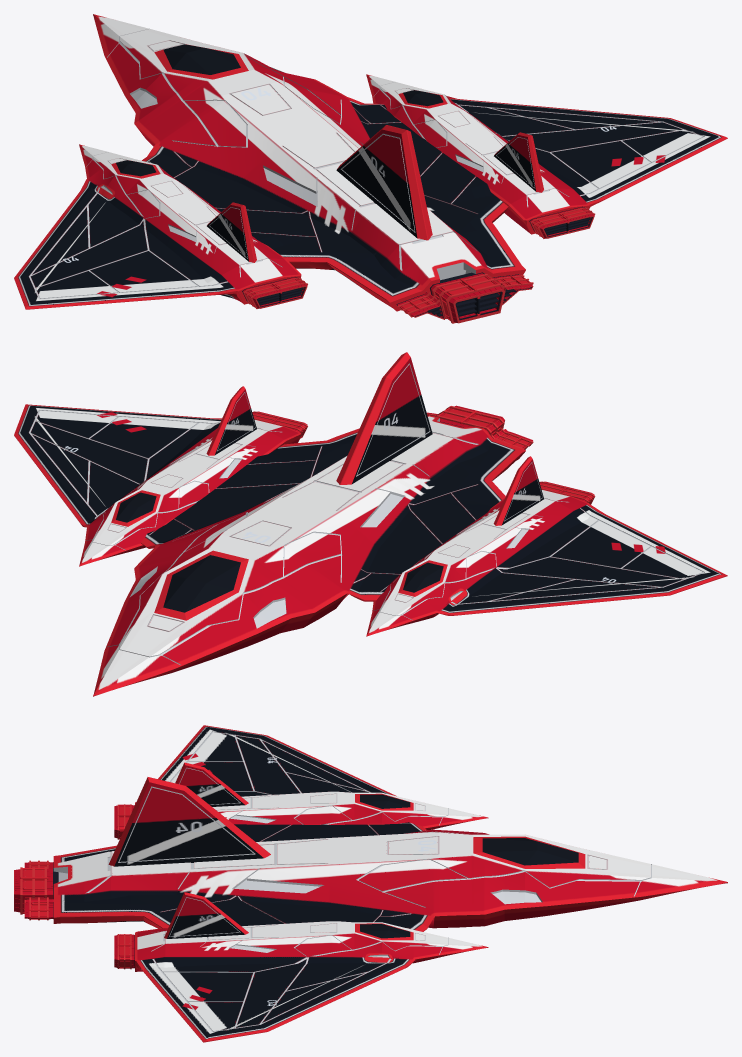
File: racing-red.glb
The picture shows the model from 3 angles, top to bottom: view 1: azimuth 30°, elevation 25°; view 2: azimuth 150°, elevation 25°; view 3: azimuth 270°, elevation 25°; orthographic projection. The views are drawn at different scales.
Parts seen in each view (by area): view 1: CENTER_AF04_BODY_CENTER, SIDE_L_AF04_BODY_CENTER, SIDE_R_AF04_BODY_CENTER, TAIL41_CENTER, CENTER_AF04_CANOPY_0, TAIL41_SIDE_R, TAIL41_SIDE_L, CENTER_AF04_CENTER_CANOPY_FRAME_USER; view 2: CENTER_AF04_BODY_CENTER, SIDE_L_AF04_BODY_CENTER, SIDE_R_AF04_BODY_CENTER, TAIL41_CENTER, CENTER_AF04_CANOPY_0, TAIL41_SIDE_L, TAIL41_SIDE_R, CENTER_AF04_CENTER_CANOPY_FRAME_USER, SIDE_L_AF04_CANOPY_0, SIDE_R_AF04_CANOPY_0; view 3: CENTER_AF04_BODY_CENTER, SIDE_R_AF04_BODY_CENTER, SIDE_L_AF04_BODY_CENTER, TAIL41_CENTER, TAIL41_SIDE_R, CENTER_AF04_CANOPY_0, TAIL41_SIDE_L, CENTER_AF04_CENTER_CANOPY_FRAME_USER, SIDE_L_AF04_CANOPY_0, SIDE_R_AF04_CANOPY_0.
Part boxes in pixels (x1,y1,x2,y2): CENTER_AF04_BODY_CENTER: (93,14,525,311); SIDE_L_AF04_BODY_CENTER: (14,144,301,309); SIDE_R_AF04_BODY_CENTER: (366,74,727,234); TAIL41_CENTER: (336,125,432,240); CENTER_AF04_CANOPY_0: (163,44,240,74); TAIL41_SIDE_R: (494,132,543,192); TAIL41_SIDE_L: (207,202,256,262); CENTER_AF04_CENTER_CANOPY_FRAME_USER: (154,44,248,79); CENTER_AF04_BODY_CENTER: (93,415,525,696); SIDE_L_AF04_BODY_CENTER: (366,489,727,636); SIDE_R_AF04_BODY_CENTER: (14,404,301,566); TAIL41_CENTER: (336,352,432,484); CENTER_AF04_CANOPY_0: (163,555,240,612); TAIL41_SIDE_L: (493,456,543,525); TAIL41_SIDE_R: (206,386,256,455); CENTER_AF04_CENTER_CANOPY_FRAME_USER: (154,550,248,620); SIDE_L_AF04_CANOPY_0: (403,562,443,592); SIDE_R_AF04_CANOPY_0: (116,492,156,522); CENTER_AF04_BODY_CENTER: (53,822,727,931); SIDE_R_AF04_BODY_CENTER: (135,921,488,1042); SIDE_L_AF04_BODY_CENTER: (135,725,488,829); TAIL41_CENTER: (108,777,270,866); TAIL41_SIDE_R: (164,892,248,938); CENTER_AF04_CANOPY_0: (482,838,578,865); TAIL41_SIDE_L: (175,762,248,806); CENTER_AF04_CENTER_CANOPY_FRAME_USER: (473,836,585,868); SIDE_L_AF04_CANOPY_0: (360,794,410,808); SIDE_R_AF04_CANOPY_0: (360,924,410,938).
Bounding box in the file's own units: 14.09 × 2.83 × 13.42.
14 materials, 4 textured.
